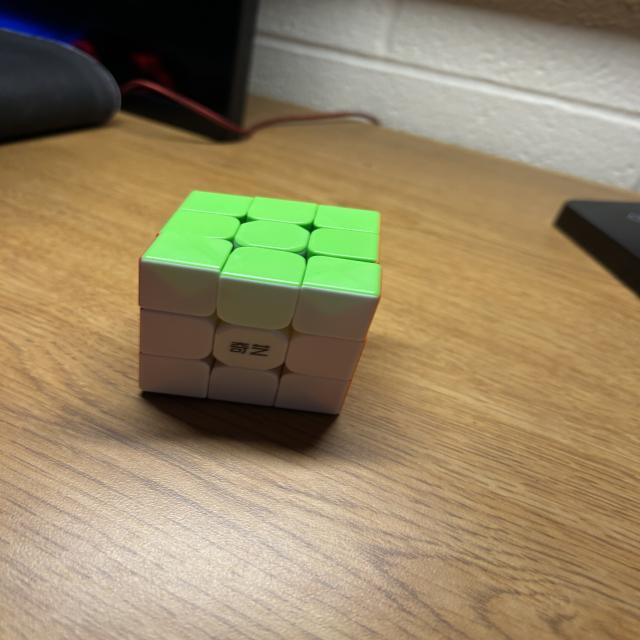Rubiks Cube: (138, 190, 380, 415)
